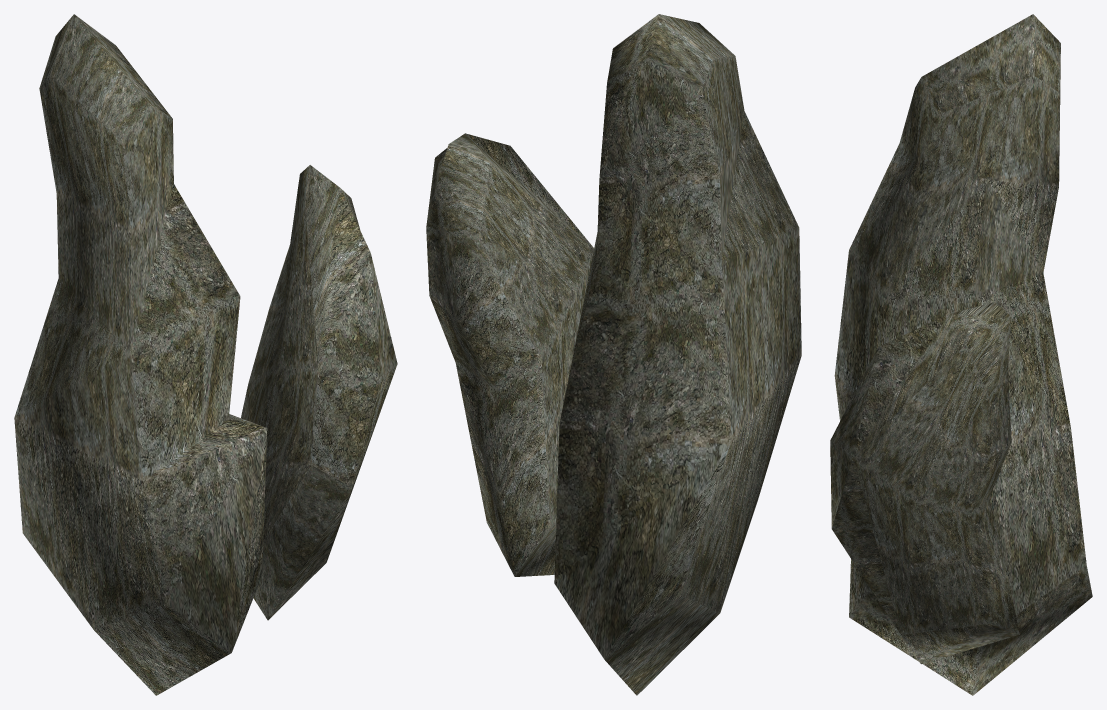
Rendered from rock_dant_a5_l2.fbx.
3 views of the same model, side by side, from view 1: azimuth 30°, elevation 25°; view 2: azimuth 150°, elevation 25°; view 3: azimuth 270°, elevation 25° (orthographic). The views are drawn at different scales.
Parts seen in each view (by area): view 1: mesh_node; view 2: mesh_node; view 3: mesh_node.
Part boxes in pixels (x1=…): mesh_node: x1=14, y1=14, x2=397, y2=695; mesh_node: x1=426, y1=14, x2=801, y2=695; mesh_node: x1=830, y1=14, x2=1092, y2=695.
Bounding box in the file's own units: 2.36 × 4.86 × 1.76.
Materials: 1 (1 with a texture image).
